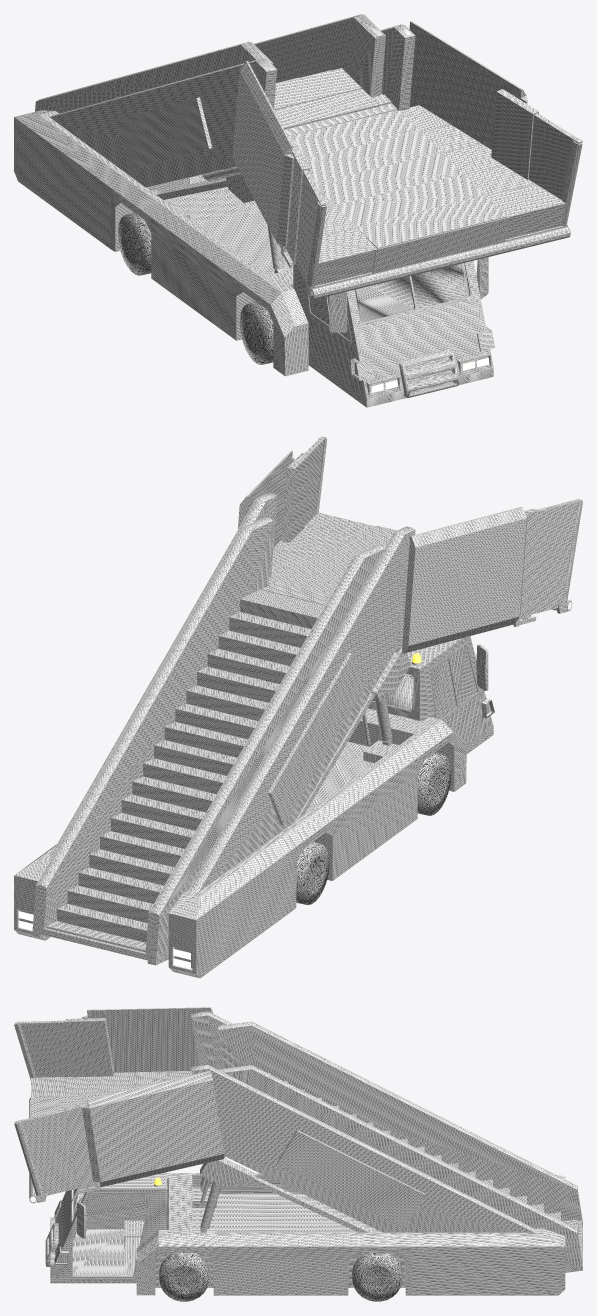
Rendered from ASO_Boarding_Stairs_LOD03.gltf.
3 views of the same model, one above another, from view 1: azimuth 30°, elevation 25°; view 2: azimuth 150°, elevation 25°; view 3: azimuth 270°, elevation 25° (orthographic). The views are drawn at different scales.
Visible parts, largest first — view 1: Ramp_End, ASO_Boarding_Stairs, Ramp_Start, W1_R, W2; view 2: Ramp_Start, Ramp_End, ASO_Boarding_Stairs, W1_R, W2; view 3: Ramp_End, ASO_Boarding_Stairs, Ramp_Start, W2, W1_L, Piston2.
Part boxes in pixels (left/top/right/bottom): Ramp_End: left=50, top=21, right=582, bottom=299; ASO_Boarding_Stairs: left=14, top=110, right=494, bottom=407; Ramp_Start: left=35, top=14, right=391, bottom=202; W1_R: left=239, top=301, right=273, bottom=364; W2: left=118, top=212, right=151, bottom=275; Ramp_Start: left=32, top=517, right=410, bottom=965; Ramp_End: left=50, top=436, right=582, bottom=892; ASO_Boarding_Stairs: left=14, top=636, right=494, bottom=978; W1_R: left=417, top=752, right=451, bottom=815; W2: left=296, top=842, right=329, bottom=904; Ramp_End: left=14, top=1007, right=536, bottom=1232; ASO_Boarding_Stairs: left=45, top=1172, right=565, bottom=1295; Ramp_Start: left=200, top=1021, right=582, bottom=1272; W2: left=352, top=1253, right=402, bottom=1301; W1_L: left=159, top=1253, right=209, bottom=1301; Piston2: left=200, top=1157, right=225, bottom=1228.
Size of the model in its own units: 3.76 by 3.94 by 8.9.
